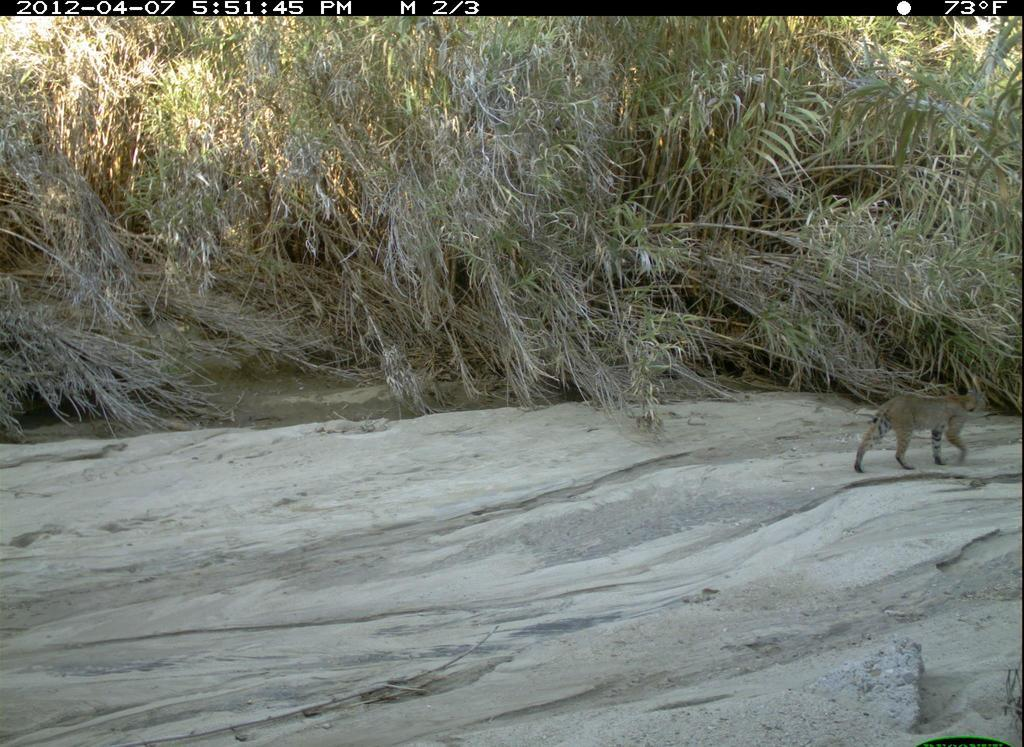bobcat: (849, 384, 992, 485)
